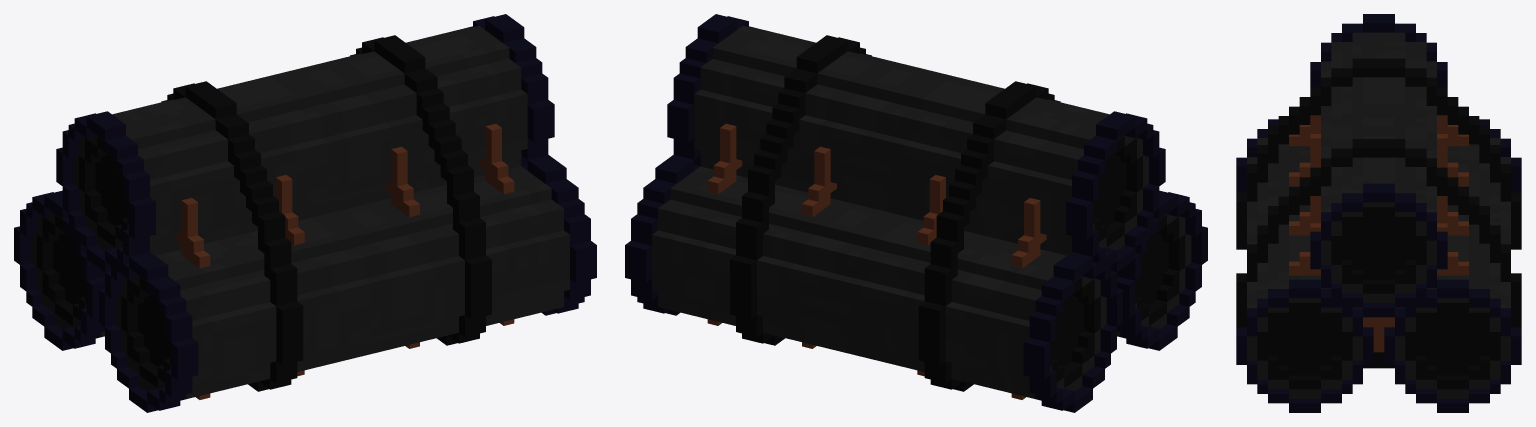
Rendered from pipe_1.obj.
3 views of the same model, side by side, from view 1: azimuth 30°, elevation 25°; view 2: azimuth 150°, elevation 25°; view 3: azimuth 270°, elevation 25° (orthographic). The views are drawn at different scales.
Size of the model in its own units: 4 by 2.3 by 2.7.
1 material, 1 textured.
